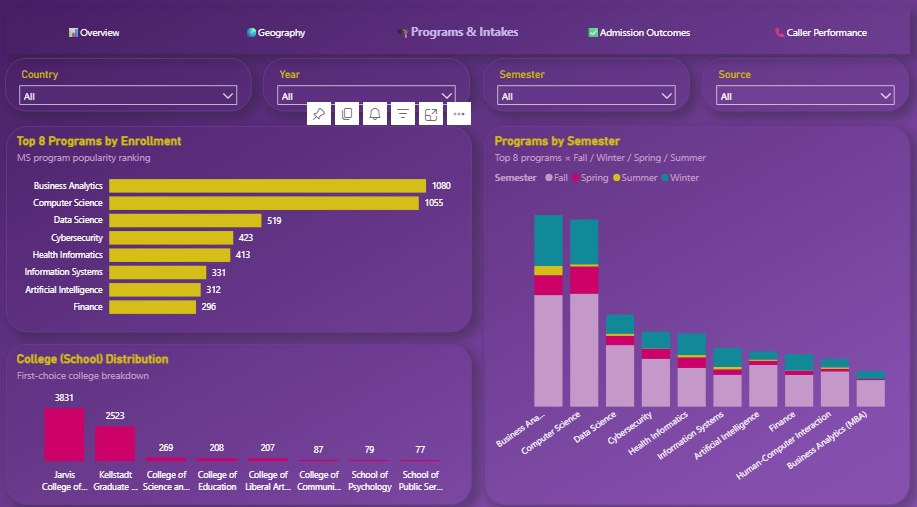

The page's visual inventory and layout, read from the dashboard file:
{"tool":"powerbi","page":{"name":"🎓Programs & Intakes","canvas":[1280,720],"ordinal":2},"visuals":[{"type":"pageNavigator","box":[9.2,16.5,1254.4,62.3],"z":0},{"type":"barChart","title":"Top 8 Programs by Enrollment","fields":{"Category":["Sheet1.Program"],"Y":["CountNonNull(Sheet1.Reference_ID)"]},"box":[9.2,179.5,646.4,285.7],"z":0,"group":"g4"},{"type":"group","id":"g1","title":"Group 3","box":[9,85,1254.4,75.1],"z":1000},{"type":"columnChart","title":"Programs by Semester","fields":{"Category":["Sheet1.Program"],"Y":["CountNonNull(Sheet1.Reference_ID)"],"Series":["Sheet1.Intake_Season"]},"box":[672.1,179.5,591.5,525.6],"z":1000,"group":"g3"},{"type":"group","id":"g2","title":"Group 1","box":[9.2,179.5,1254.4,525.6],"z":2000},{"type":"columnChart","title":"College (School) Distribution","fields":{"Category":["Sheet1.College_1st_Choice"],"Y":["CountNonNull(Sheet1.Reference_ID)"]},"box":[9.2,481.6,646.4,223.4],"z":2000,"group":"g4"},{"type":"group","id":"g3","title":"Group 4","box":[9.2,179.5,1254.4,525.6],"z":2001,"group":"g2"},{"type":"group","id":"g4","title":"Group 2","box":[9.2,179.5,646.4,525.6],"z":2001,"group":"g3"},{"type":"slicer","fields":{"Values":["Sheet1.Country"]},"box":[9,85,341.6,74.2],"z":6000,"group":"g1"},{"type":"slicer","fields":{"Values":["Sheet1.Intake_Season"]},"box":[671.7,85.5,287.1,74.5],"z":7000,"group":"g1"},{"type":"slicer","fields":{"Values":["Sheet1.Intake_Year"]},"box":[367.3,85.5,287.1,74.5],"z":8000,"group":"g1"},{"type":"slicer","fields":{"Values":["Sheet1.Application_Source"]},"box":[975.1,85.5,287.1,74.5],"z":9014,"group":"g1"}]}

Visuals, with their boxes in screenshot pixels (x1, y1, x2, y2), scaled from the page's 1280x720 canvas onto the 917x507 screenshot:
pageNavigator: bbox=(7, 12, 905, 55)
"Top 8 Programs by Enrollment" barChart: bbox=(7, 126, 470, 328)
"Group 3" group: bbox=(6, 60, 905, 113)
"Programs by Semester" columnChart: bbox=(481, 126, 905, 497)
"Group 1" group: bbox=(7, 126, 905, 497)
"College (School) Distribution" columnChart: bbox=(7, 339, 470, 496)
"Group 4" group: bbox=(7, 126, 905, 497)
"Group 2" group: bbox=(7, 126, 470, 497)
slicer - Sheet1.Country: bbox=(6, 60, 251, 112)
slicer - Sheet1.Intake_Season: bbox=(481, 60, 687, 113)
slicer - Sheet1.Intake_Year: bbox=(263, 60, 469, 113)
slicer - Sheet1.Application_Source: bbox=(699, 60, 904, 113)
